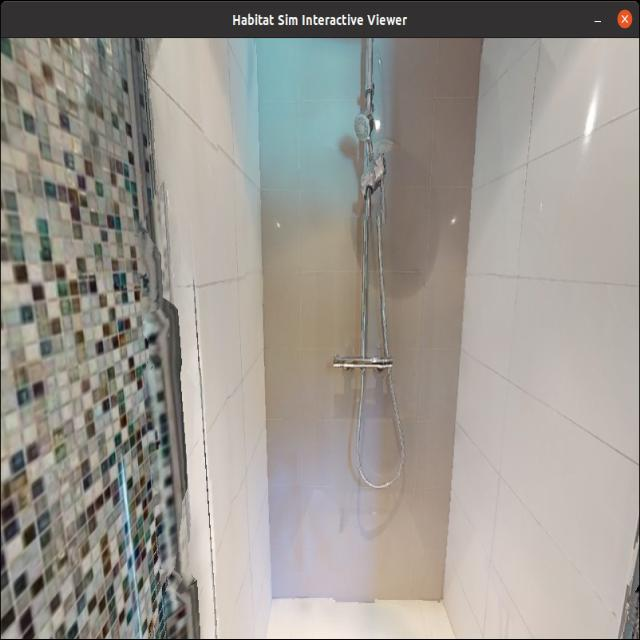shower: (113, 40, 523, 640)
